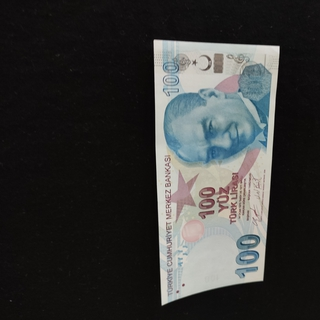100TLFront: (152, 38, 281, 306)
